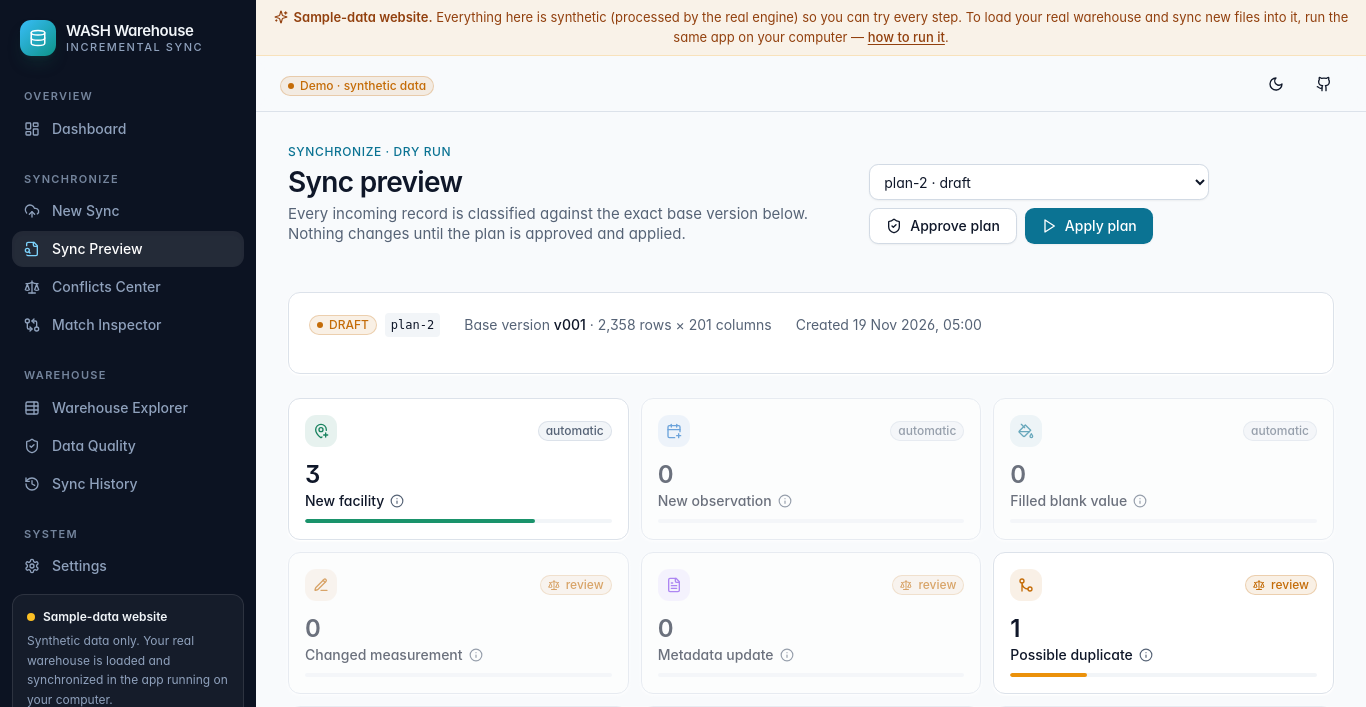
Test: missing backend messaging › explains that applying needs Local Production Mode
Click the button "Apply plan" at [1089, 226], box [1025,208,1153,244]
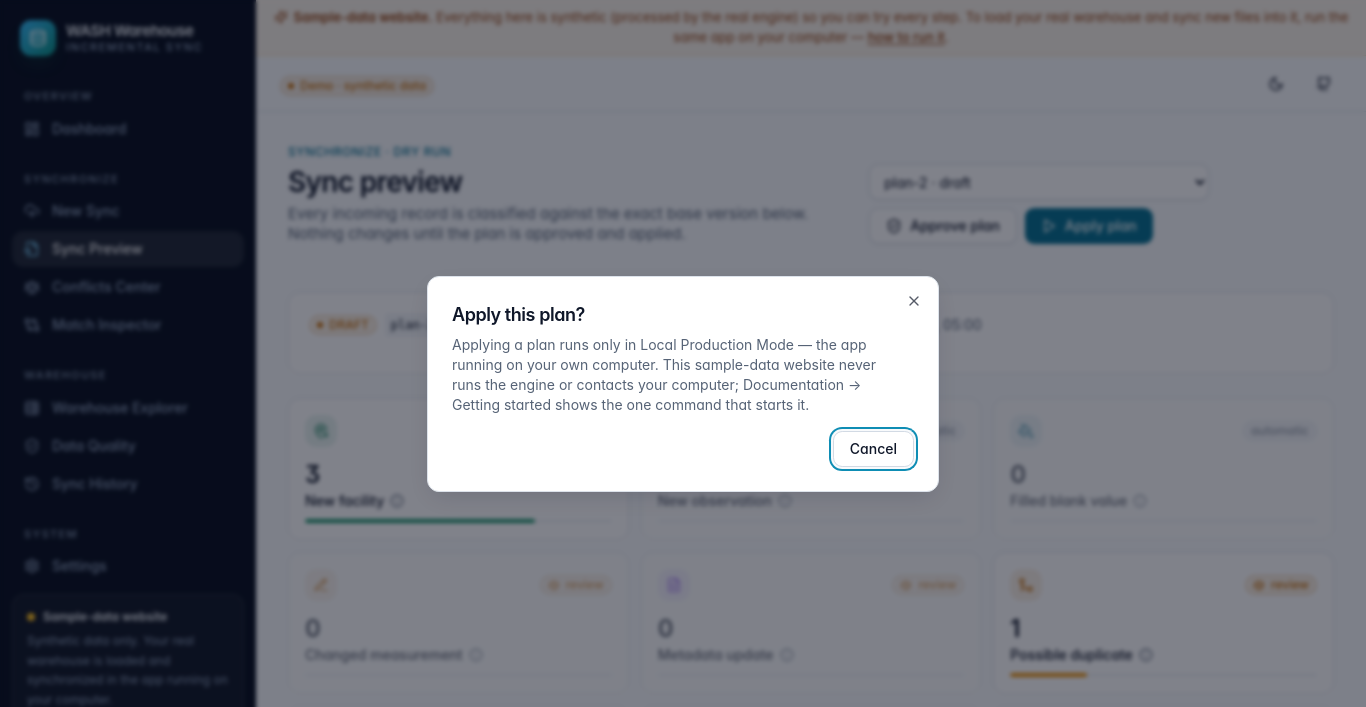
Expected: the text "runs only in Local Production Mode" is shown, [452,336,876,413]
